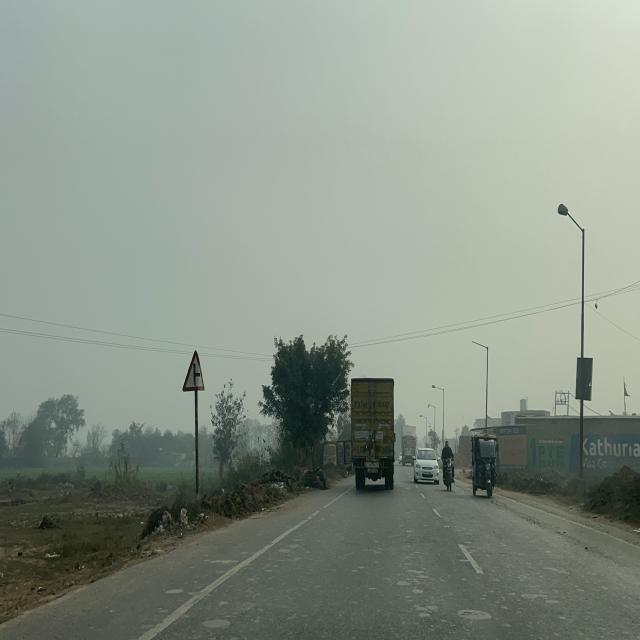SIDE_ROAD_RIGHT: (182, 349, 205, 392)
